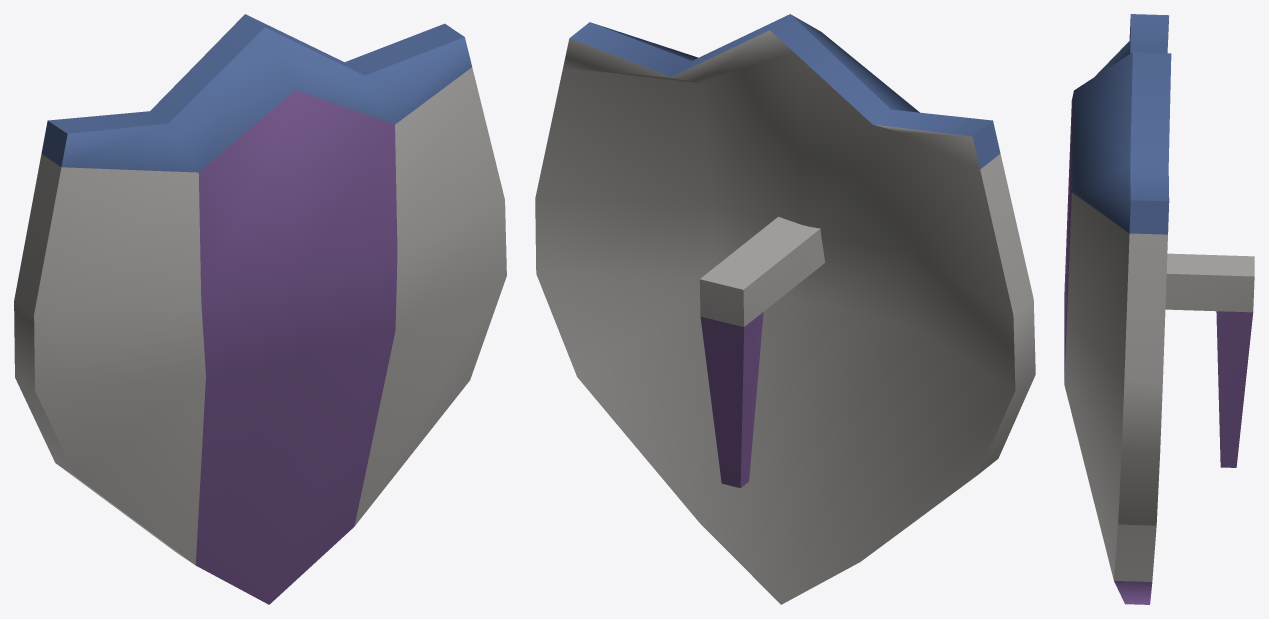
File: CastleKnight_Shield4CastleKnight.fbx
3 views of the same model, side by side, from view 1: azimuth 30°, elevation 25°; view 2: azimuth 150°, elevation 25°; view 3: azimuth 270°, elevation 25° (orthographic). The views are drawn at different scales.
Parts seen in each view (by area): view 1: polySurface2542; view 2: polySurface2542; view 3: polySurface2542.
Boxes of the visible parts, box(x1,y1,x2,y2) form: polySurface2542: box(14, 14, 506, 604); polySurface2542: box(535, 14, 1035, 604); polySurface2542: box(1064, 14, 1254, 604).
Bounding box in the file's own units: 1.97 × 2.3 × 0.7174.
